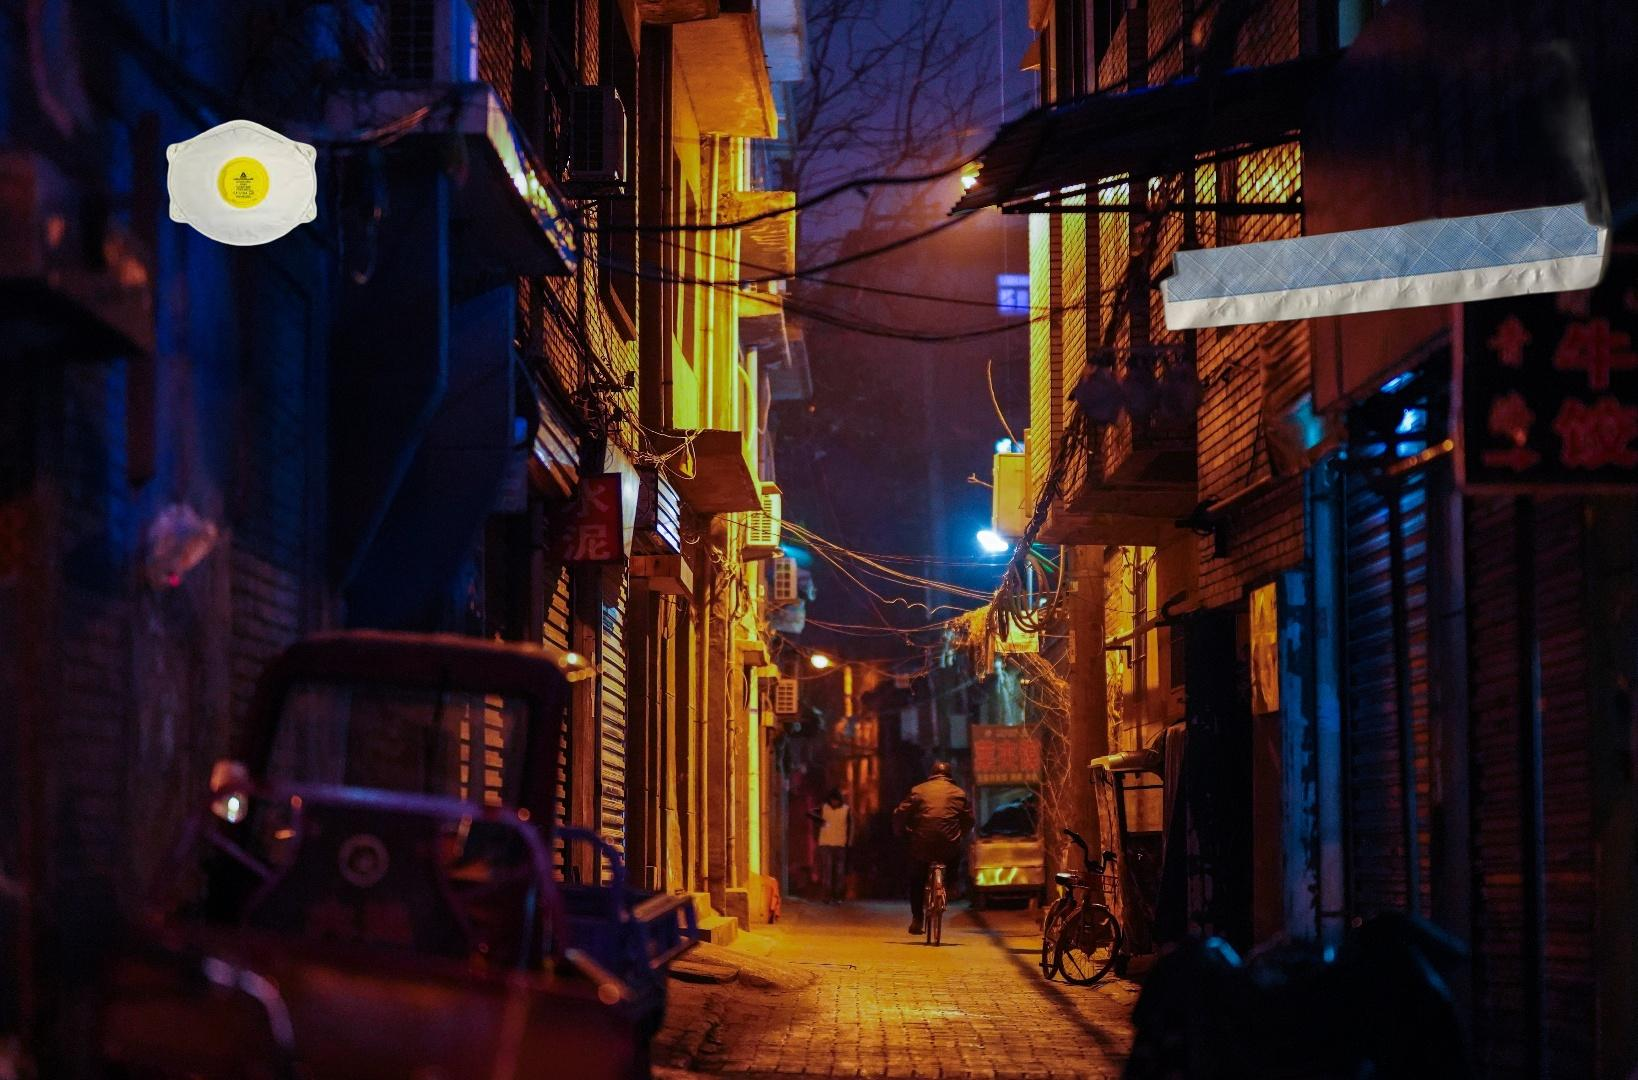paper: (1155, 22, 1621, 334)
trash: (163, 116, 320, 249)
